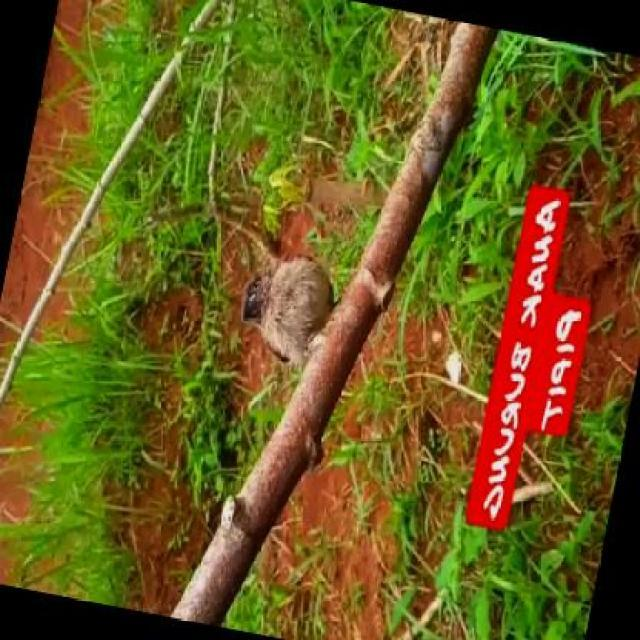Bird: (215, 242, 351, 359)
